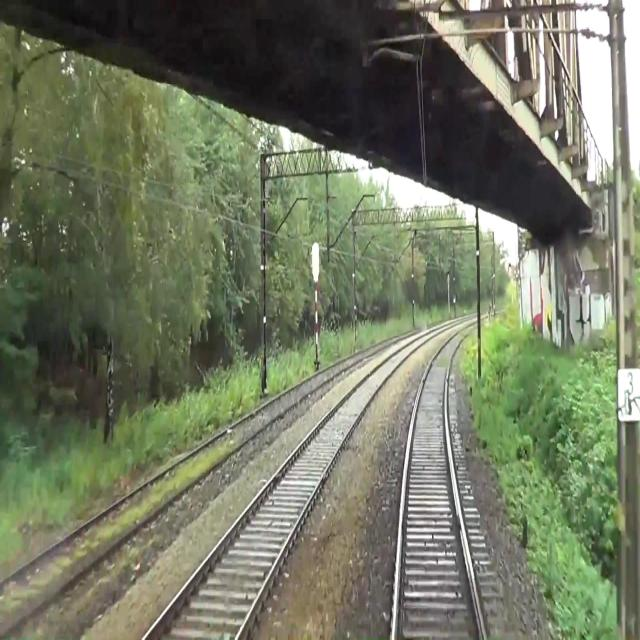rail-track: (0, 343, 386, 628), (147, 337, 426, 639), (396, 324, 482, 639)
